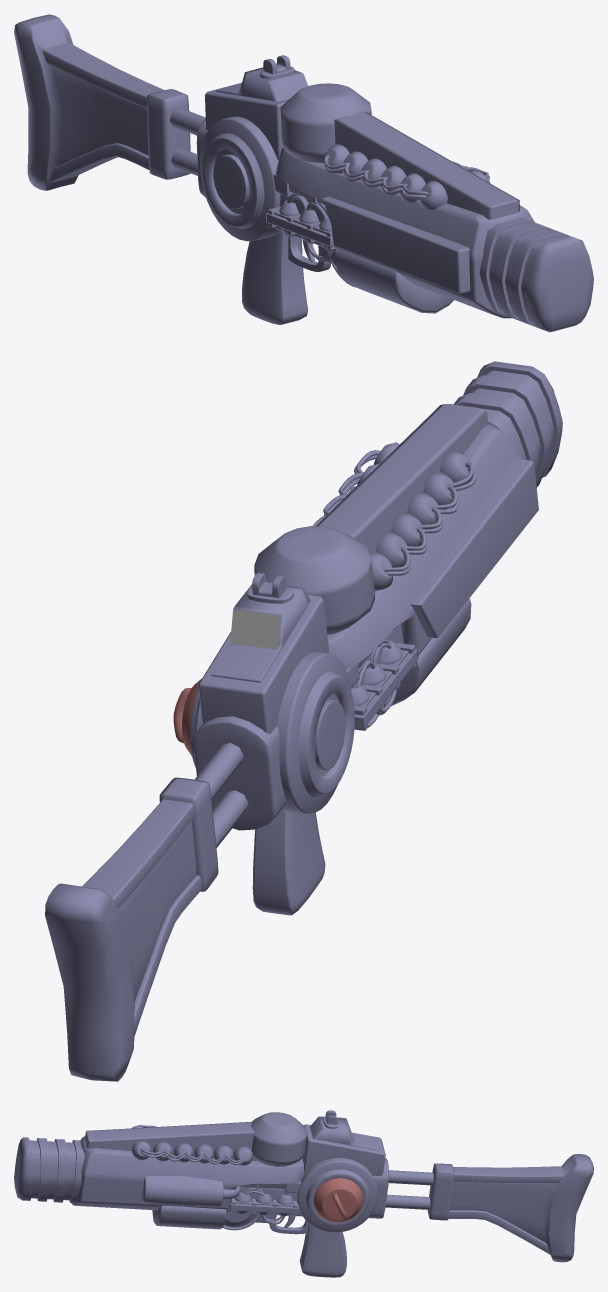
File: SciFiGun.fbx
3 views of the same model, one above another, from view 1: azimuth 30°, elevation 25°; view 2: azimuth 150°, elevation 25°; view 3: azimuth 270°, elevation 25° (orthographic). The views are drawn at different scales.
Parts seen in each view (by area): view 1: Base, Stock; view 2: Base, Stock, AmmoCount, AmmoClip; view 3: Base, Stock, AmmoClip.
Boxes of the visible parts, x1=… form: Base: x1=196, y1=55, x2=593, y2=332; Stock: x1=14, y1=14, x2=205, y2=190; Base: x1=190, y1=361, x2=562, y2=915; Stock: x1=45, y1=742, x2=248, y2=1081; AmmoCount: x1=230, y1=609, x2=280, y2=649; AmmoClip: x1=173, y1=678, x2=201, y2=755; Base: x1=14, y1=1110, x2=388, y2=1277; Stock: x1=385, y1=1154, x2=593, y2=1262; AmmoClip: x1=313, y1=1178, x2=363, y2=1222.
Bounding box in the file's own units: 22.08 × 35.58 × 113.
